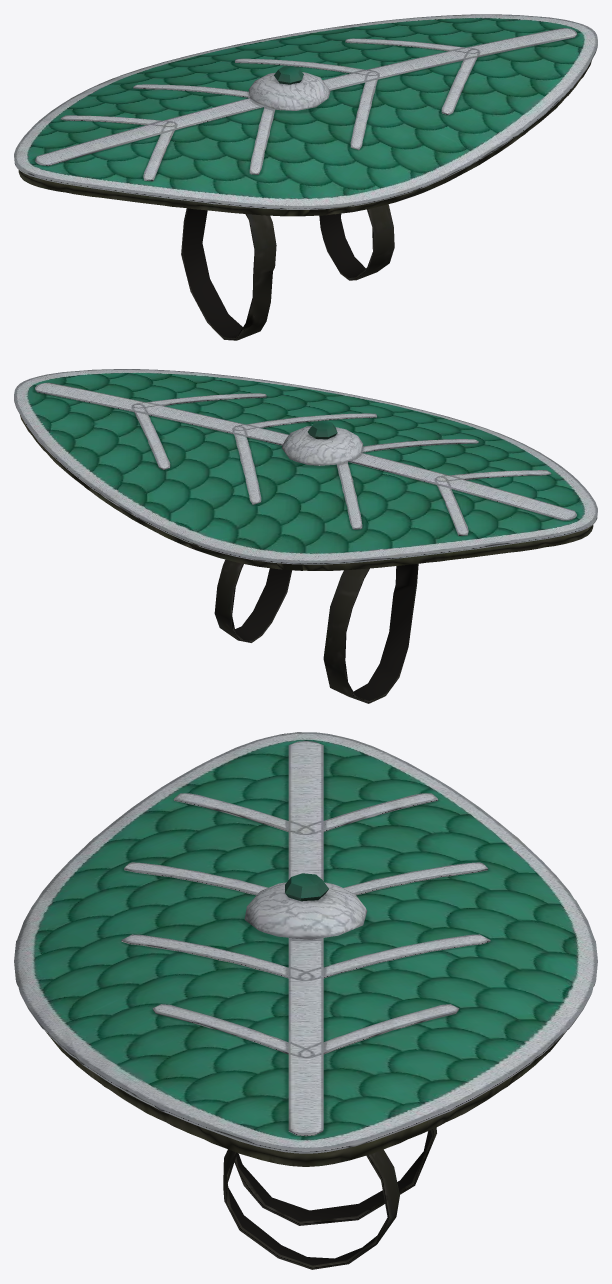
The model's file is shield_emerald.glb.
3 renders of one model, top to bottom at view 1: azimuth 30°, elevation 25°; view 2: azimuth 150°, elevation 25°; view 3: azimuth 270°, elevation 25°, orthographic. The views are drawn at different scales.
Parts seen in each view (by area): view 1: shield; view 2: shield; view 3: shield.
Part boxes in pixels (box(x1,y1,x2,y2)): shield: box(14, 14, 597, 340); shield: box(14, 369, 597, 703); shield: box(14, 732, 597, 1269).
Size of the model in its own units: 0.6799 by 0.2922 by 0.4016.
1 material, 1 textured.
